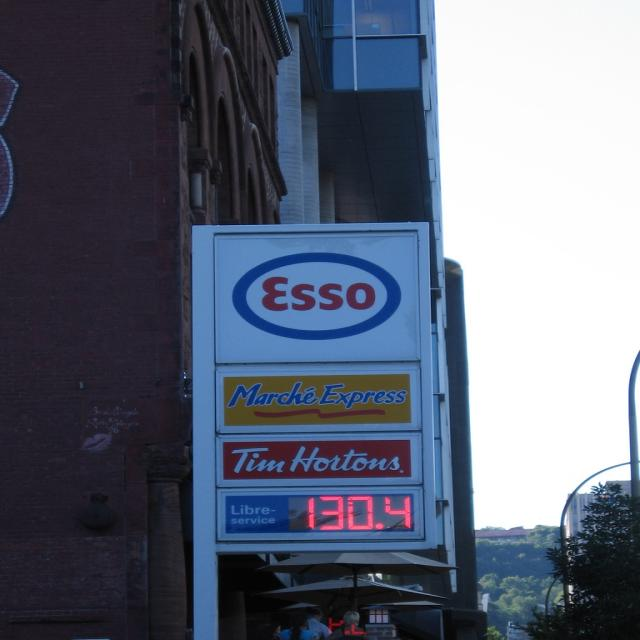esso: (225, 246, 409, 346)
